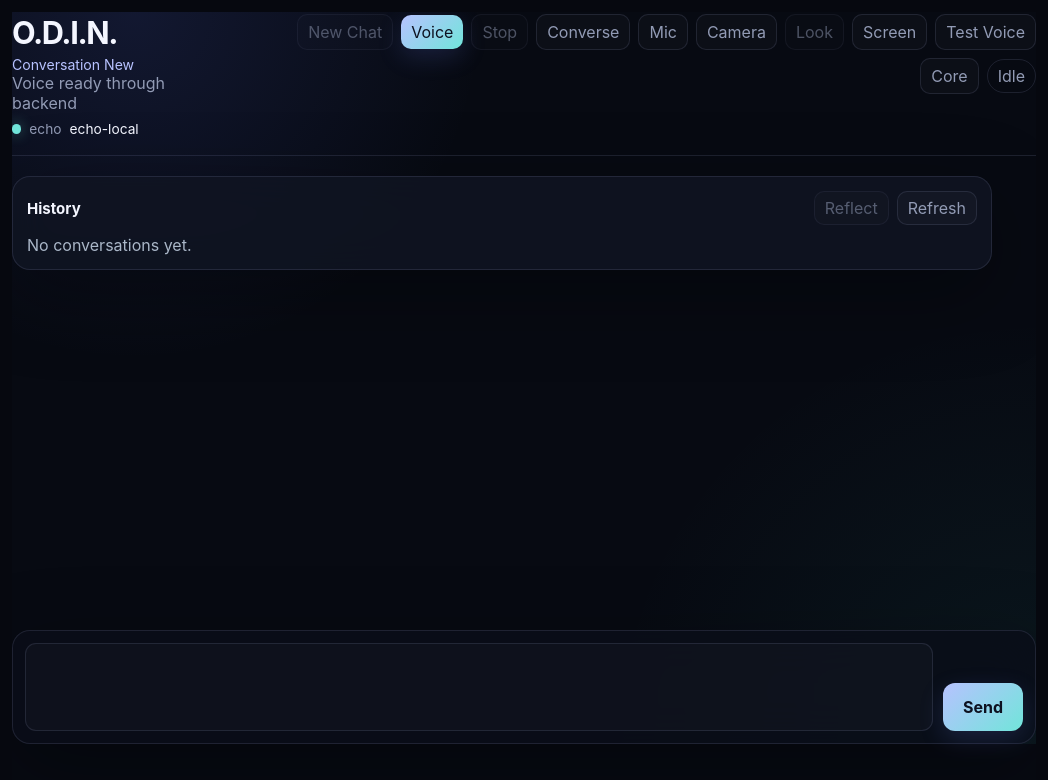
Test case: ChatView microphone › opens the mic automatically when hands-free conversation is enabled
The width and height of the screenshot is (1048, 780).
Click the button "Converse": (583, 32) x1=536 y1=14 x2=630 y2=50
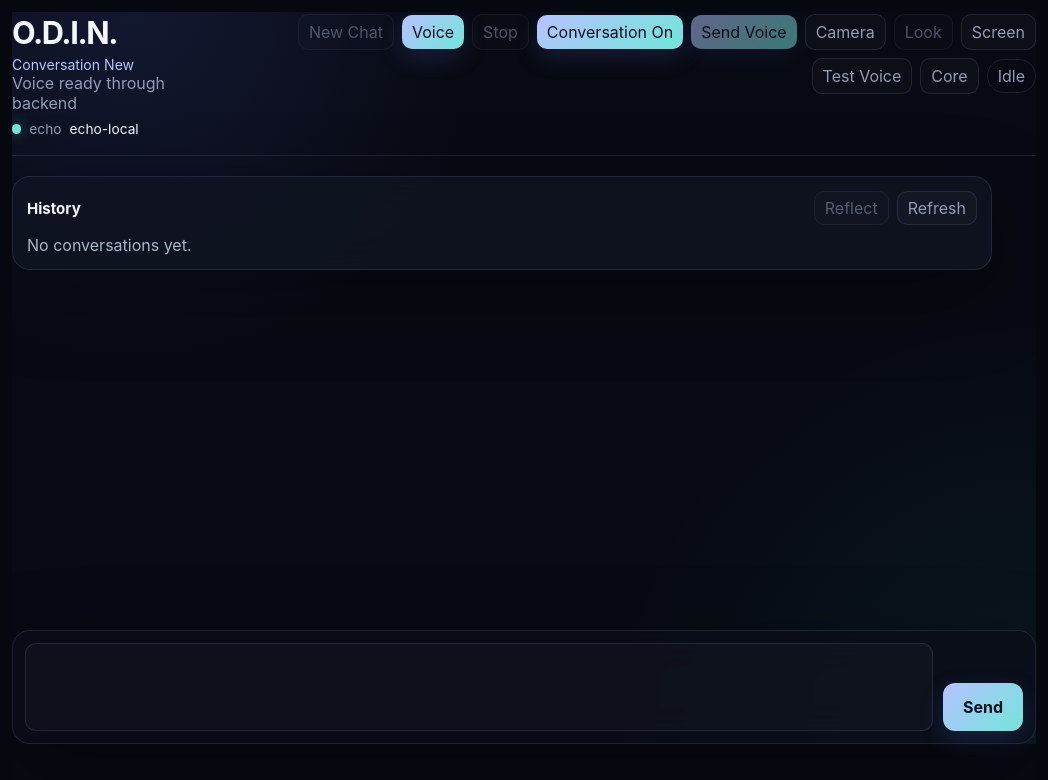
Expected: the button "Conversation On" is shown, x1=537 y1=15 x2=683 y2=49
